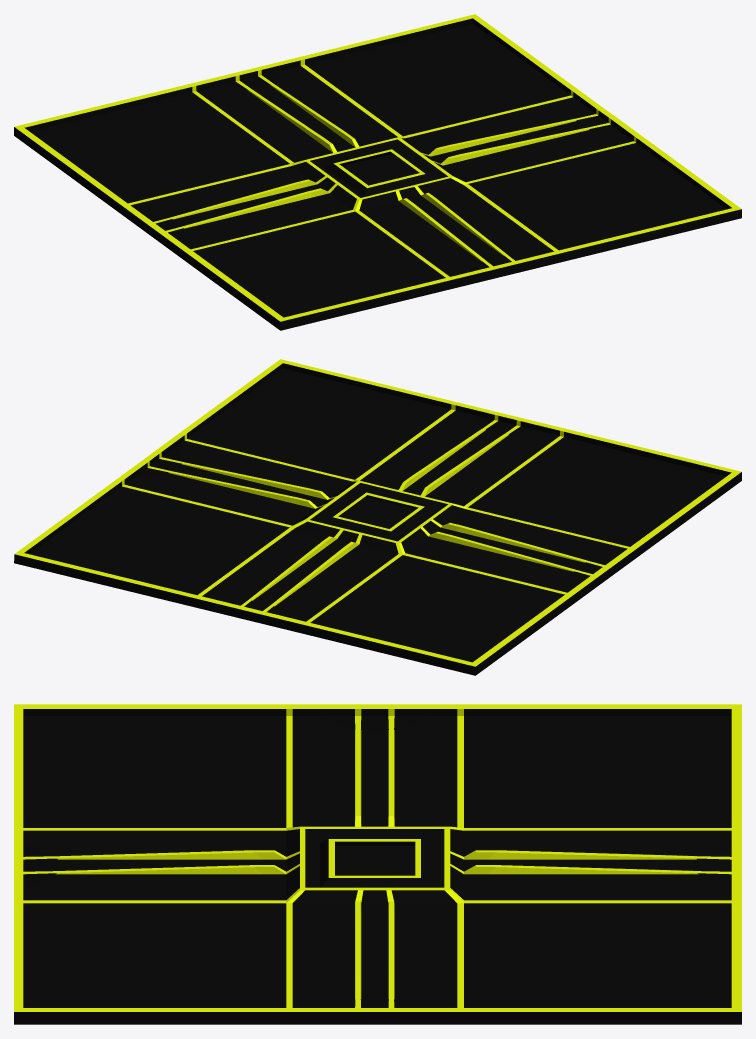
Rendered from Floor.fbx.
3 renders of one model, top to bottom at view 1: azimuth 30°, elevation 25°; view 2: azimuth 150°, elevation 25°; view 3: azimuth 270°, elevation 25°, orthographic. The views are drawn at different scales.
Visible parts, largest first — view 1: Box001; view 2: Box001; view 3: Box001.
Part boxes in pixels (bbox=[...]): Box001: bbox=[14, 14, 741, 330]; Box001: bbox=[14, 359, 741, 675]; Box001: bbox=[14, 704, 741, 1024].
Size of the model in its own units: 5120 by 96.07 by 5120.
